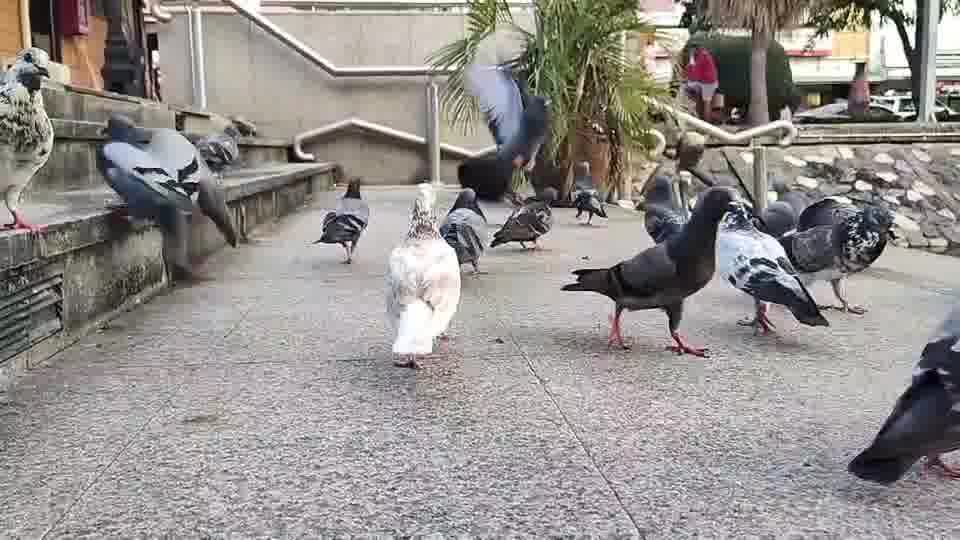Pigeon: (559, 185, 741, 357), (99, 111, 238, 248), (847, 332, 959, 483), (716, 199, 830, 337), (777, 195, 898, 315), (382, 196, 461, 369), (0, 46, 55, 239), (305, 175, 369, 264), (438, 187, 488, 275), (488, 192, 553, 251), (193, 124, 241, 182), (567, 159, 608, 225)
